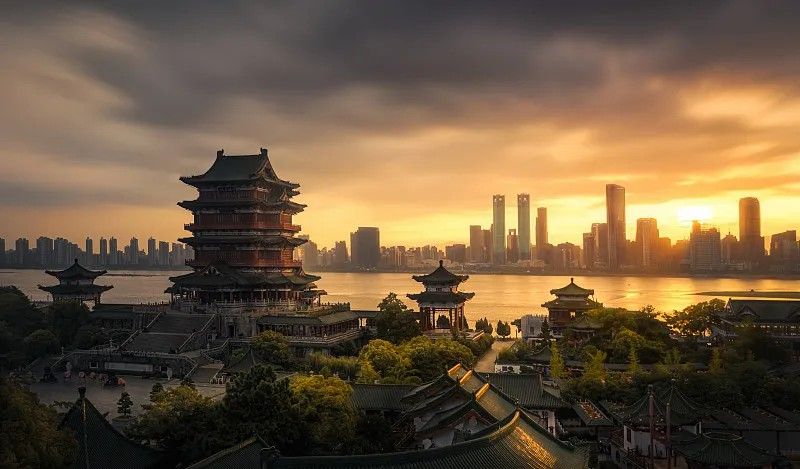Teng: (165, 147, 328, 309)
